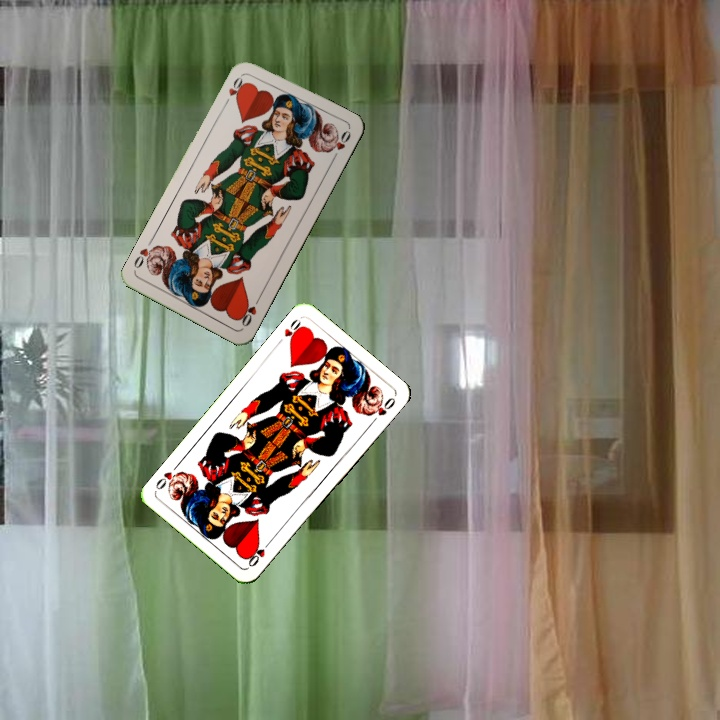HO: (273, 315, 306, 348), (244, 536, 275, 570), (236, 293, 263, 329), (224, 70, 248, 102)
